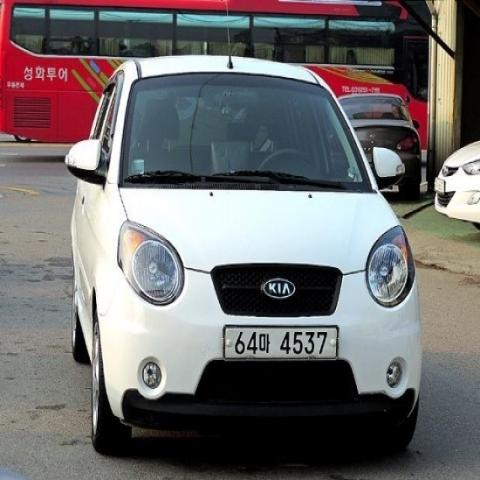LP: (219, 319, 342, 367)
